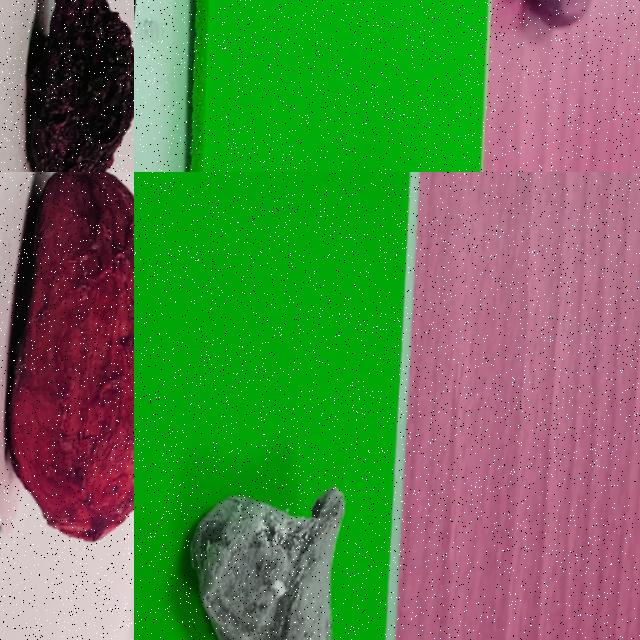Agglomerated_cocoabeans: (134, 409, 399, 639)
Fine_cocoabeans: (0, 172, 133, 591), (230, 77, 478, 171)
Flat_cocoabeans: (0, 0, 133, 171)
